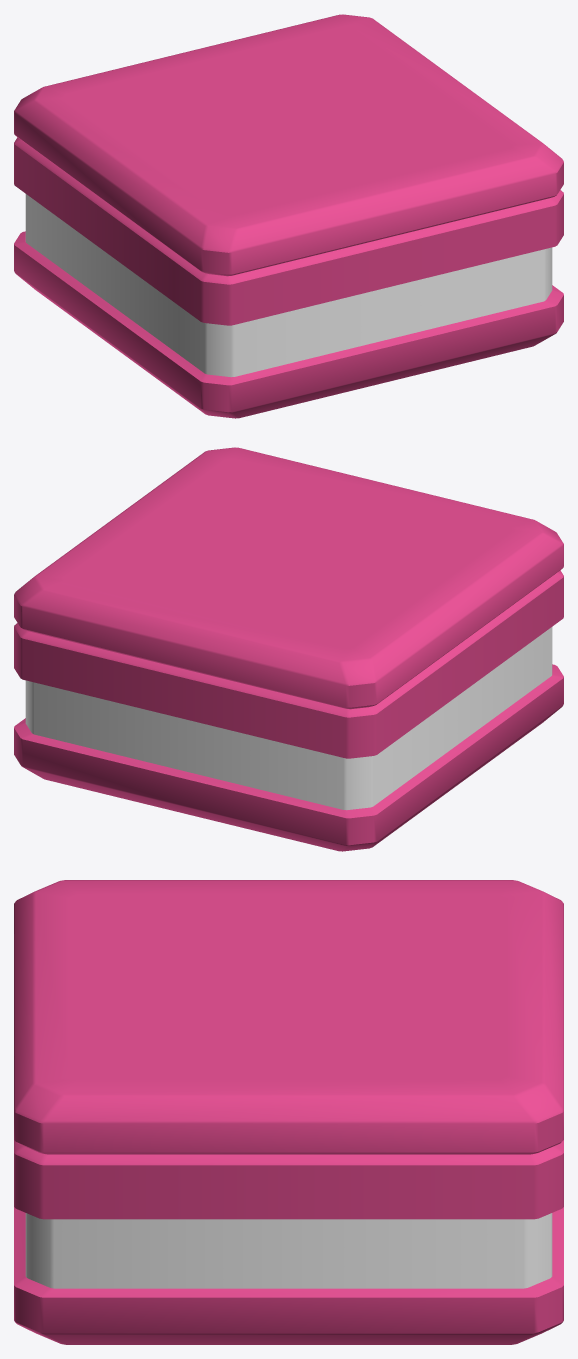
File: 13_Box_purple_semi_sized.fbx
3 views of the same model, one above another, from view 1: azimuth 30°, elevation 25°; view 2: azimuth 150°, elevation 25°; view 3: azimuth 270°, elevation 25° (orthographic). The views are drawn at different scales.
Visible parts, largest first — view 1: 13_Box_purple_semi_sized; view 2: 13_Box_purple_semi_sized; view 3: 13_Box_purple_semi_sized.
Part boxes in pixels (x1=…): 13_Box_purple_semi_sized: x1=14, y1=14, x2=563, y2=418; 13_Box_purple_semi_sized: x1=14, y1=447, x2=563, y2=851; 13_Box_purple_semi_sized: x1=14, y1=880, x2=563, y2=1344.
Bounding box in the file's own units: 100 × 50 × 100.
